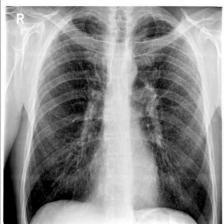tuberculosis: (18, 6, 221, 224)
